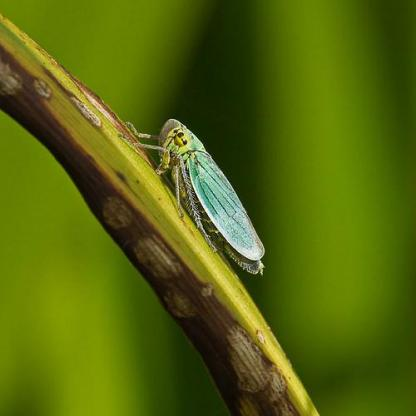Green-Leafhopper: (134, 110, 269, 280)
